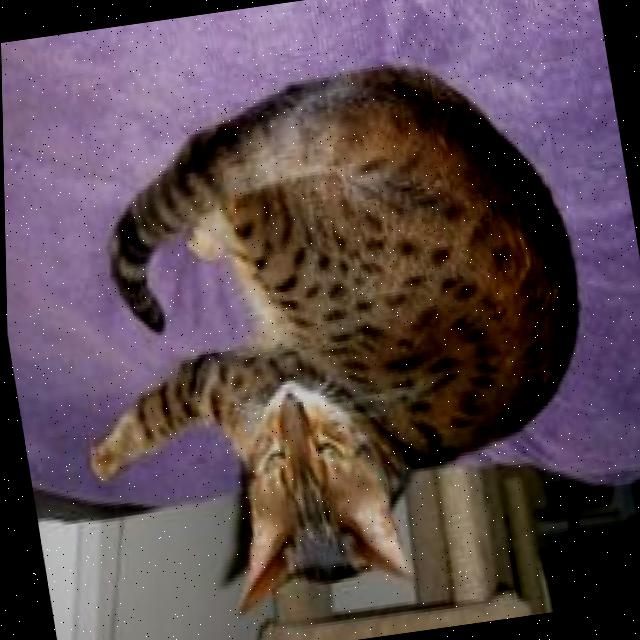Bengal: (44, 45, 625, 640)
